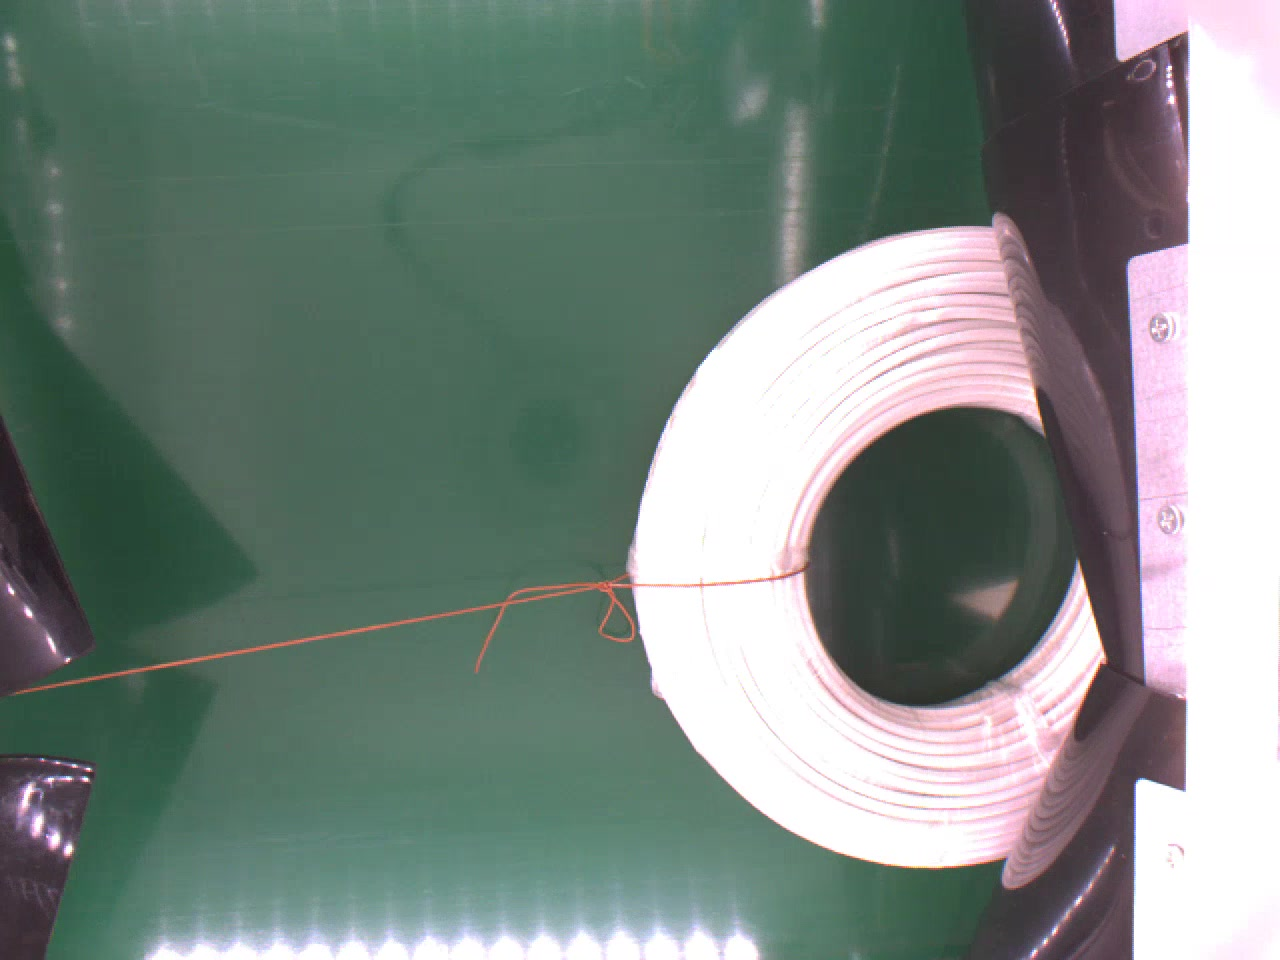white: (623, 224, 1105, 872)
